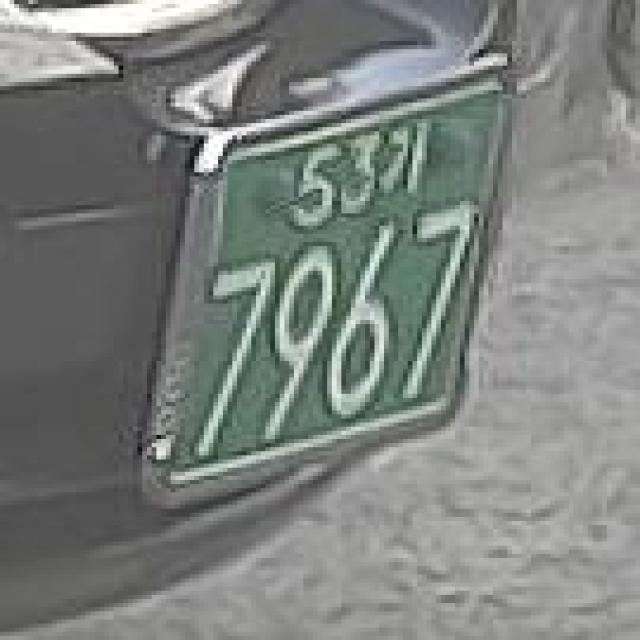illegal_plate: (177, 48, 496, 512)
